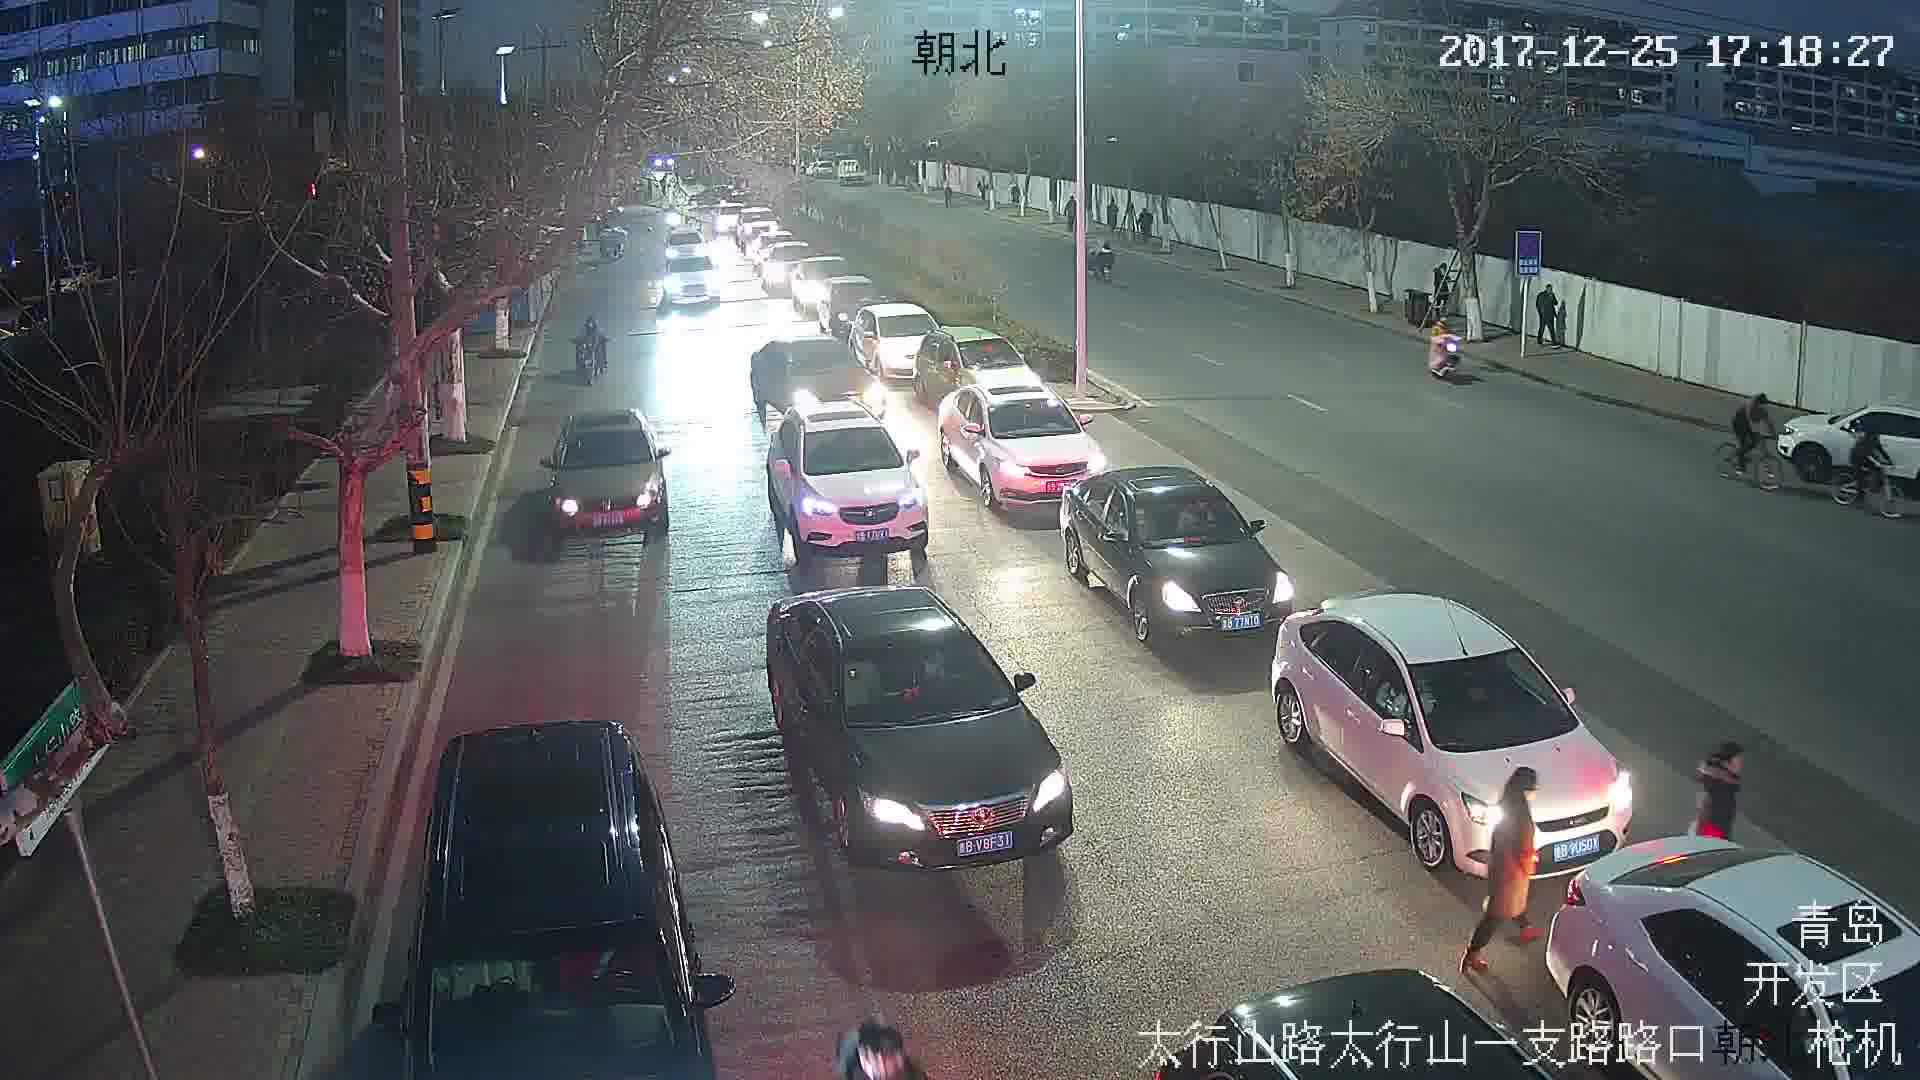car: (1277, 602, 1638, 877), (764, 594, 1078, 873), (1062, 469, 1302, 646), (767, 403, 928, 557), (932, 381, 1093, 506), (539, 409, 671, 532), (748, 335, 885, 423)
person: (1459, 769, 1541, 973), (1693, 744, 1749, 841), (1731, 387, 1773, 470), (1850, 430, 1895, 494), (1428, 317, 1464, 373), (573, 314, 606, 360)
